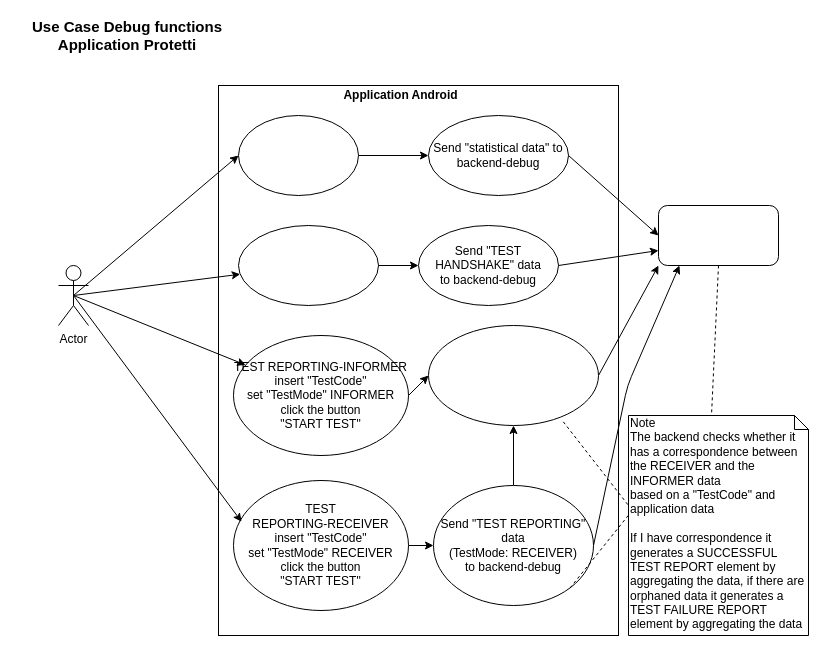
The diagram is 826 pixels wide and 653 high, and some of its shapes have lost their labels. The centre of each missing label's shape, as x and y in pixels:
Click "DEBUG" button: [298,155]
Firebase storage: [718,235]
Send "TEST REPORTING" data (TestMode: INFORMER) to backend-debug: [513,375]
TEST HANDSHAKE insert "TestCode" click the button "START TEST": [308,265]
